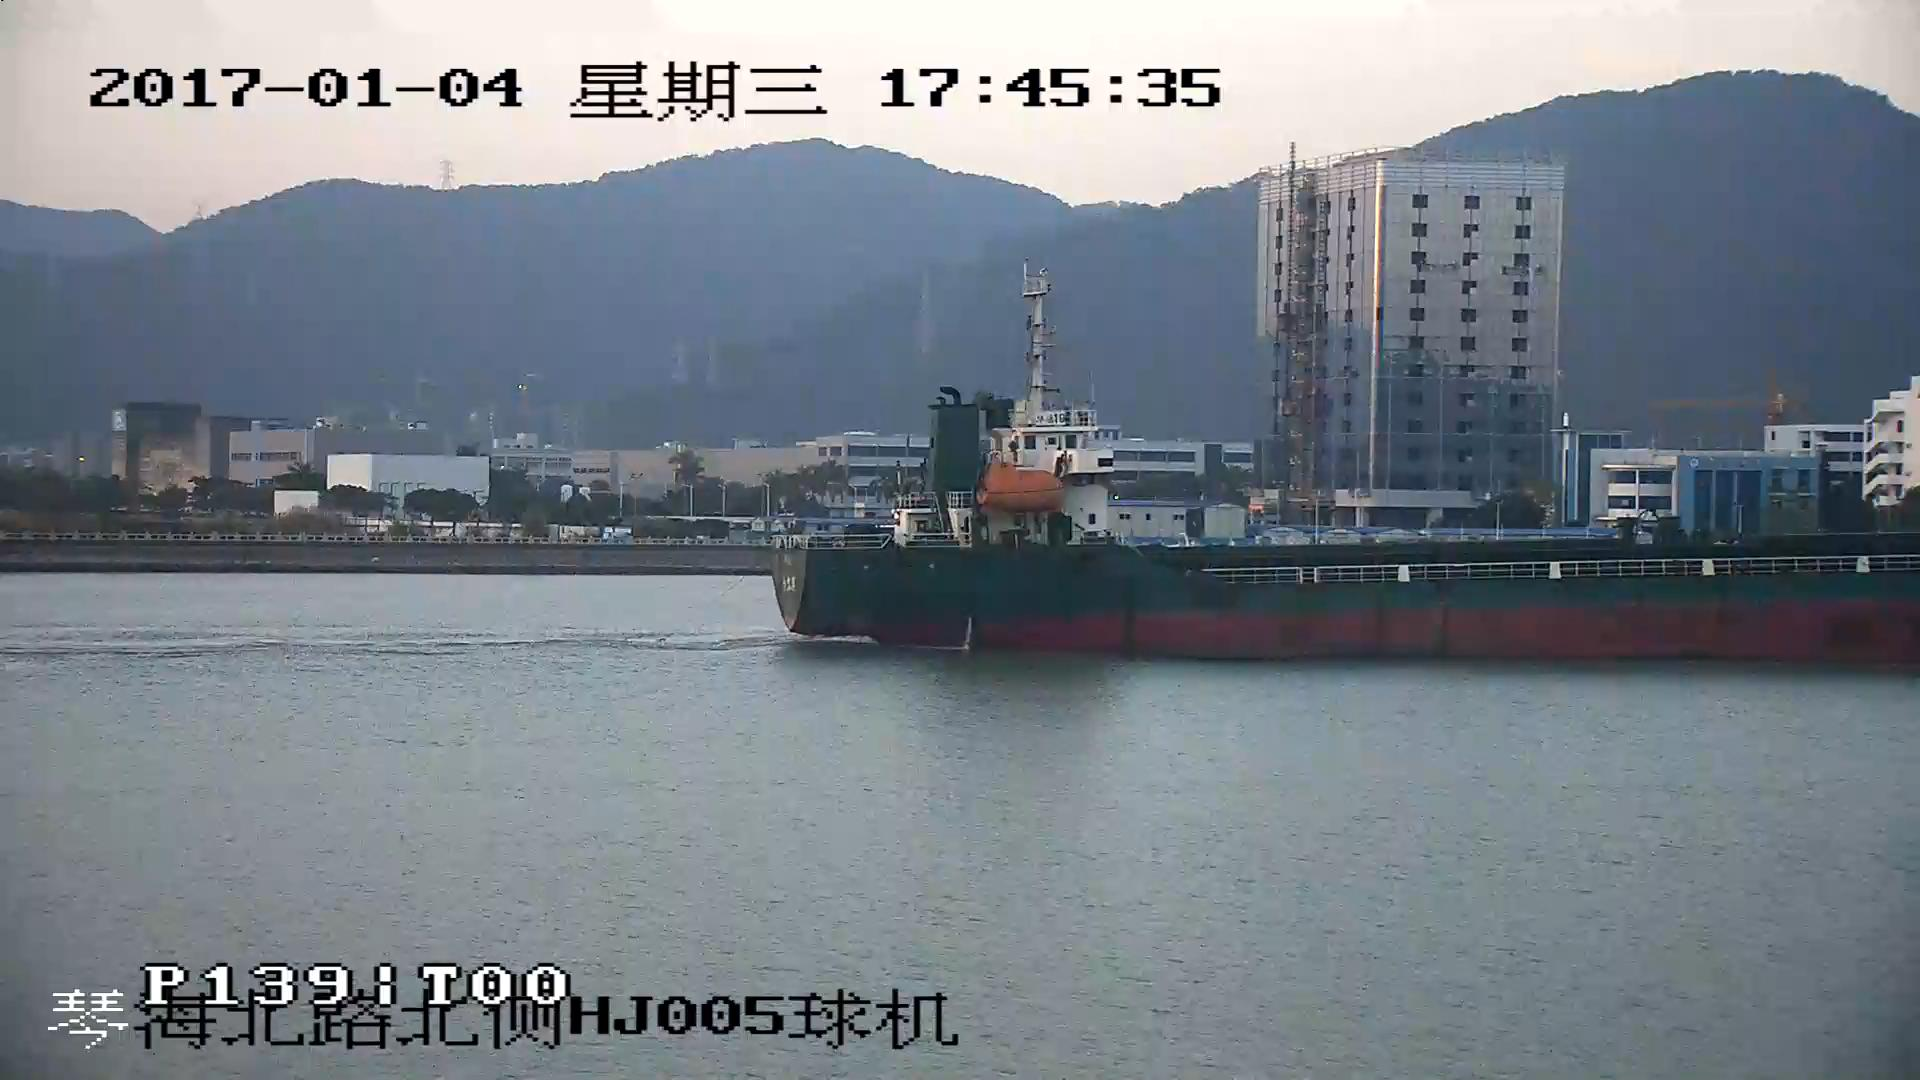general cargo ship: (769, 263, 1920, 662)
